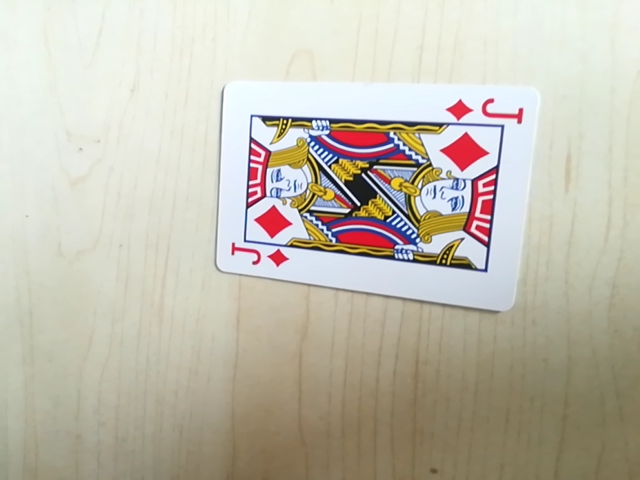fk j: (446, 92, 527, 128), (226, 241, 291, 275)
